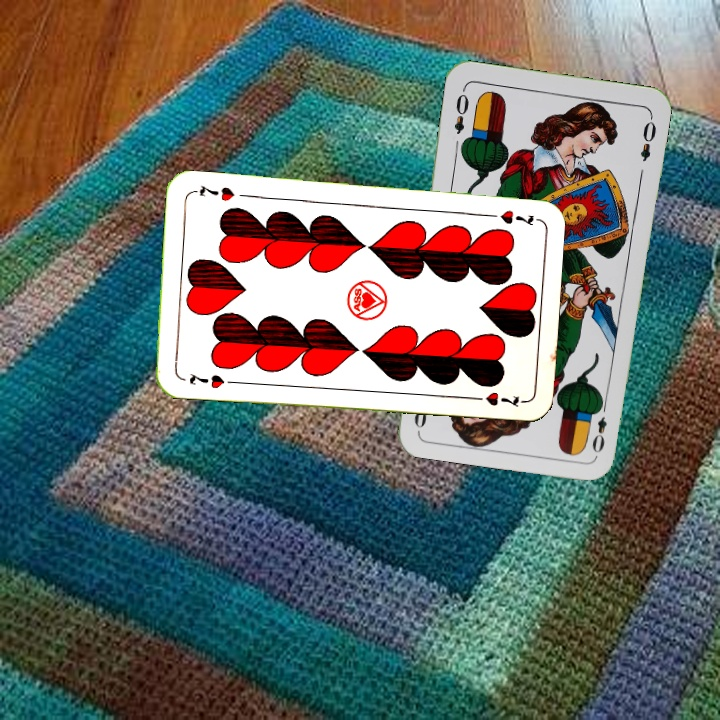EO: (588, 398, 610, 456), (449, 84, 472, 137)
H7: (480, 206, 536, 227), (185, 369, 238, 391)
